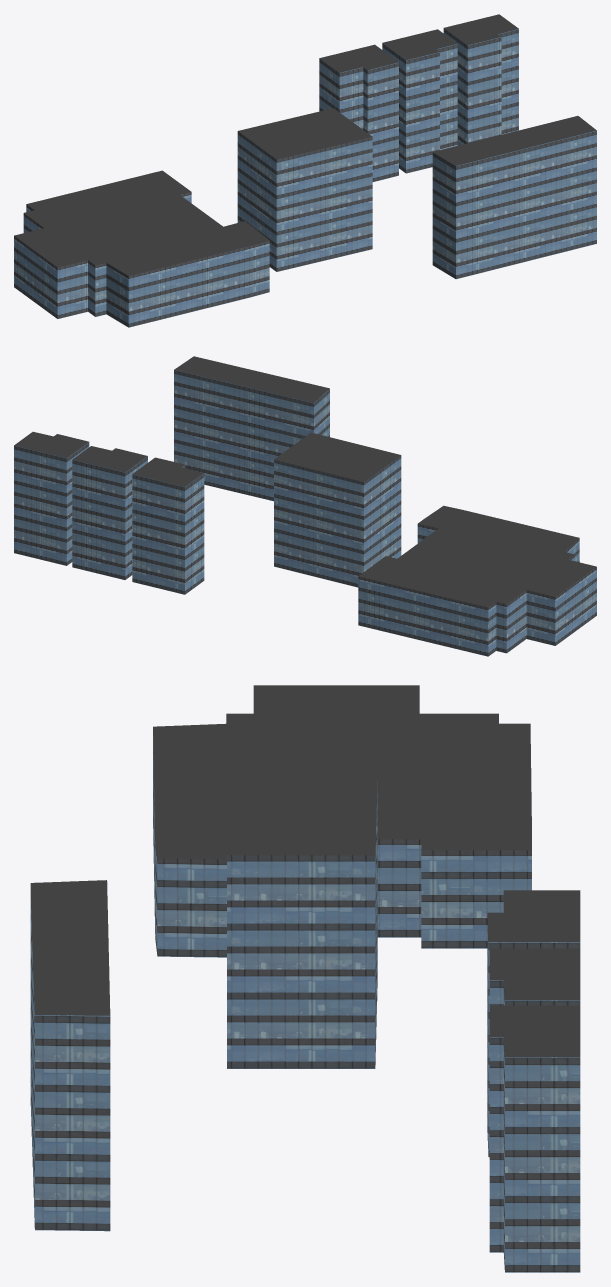
File: builder_20.FBX
3 views of the same model, one above another, from view 1: azimuth 30°, elevation 25°; view 2: azimuth 150°, elevation 25°; view 3: azimuth 270°, elevation 25° (orthographic). The views are drawn at different scales.
Parts seen in each view (by area): view 1: builder_20; view 2: builder_20; view 3: builder_20.
Boxes of the visible parts, bbox=[...] form: builder_20: bbox=[14, 14, 596, 327]; builder_20: bbox=[14, 356, 596, 656]; builder_20: bbox=[30, 685, 580, 1272].
Size of the model in its own units: 146141 by 30000 by 69405.
